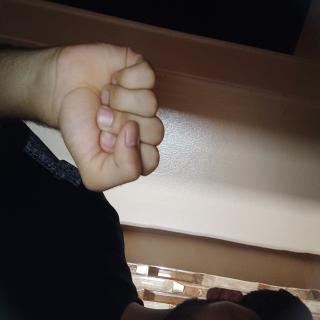SAD: (23, 197, 151, 320)
